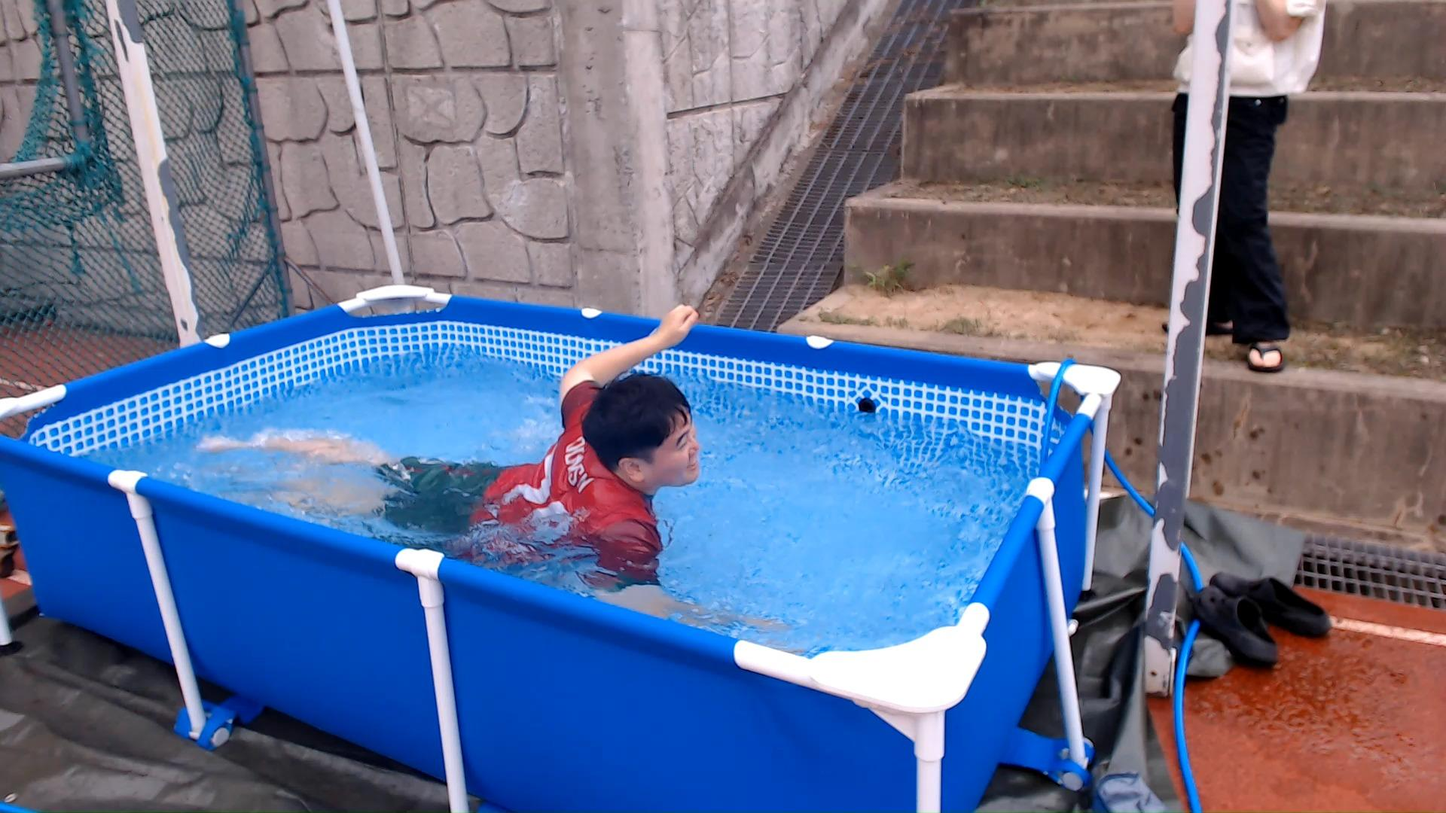Swimming: (154, 284, 800, 647)
